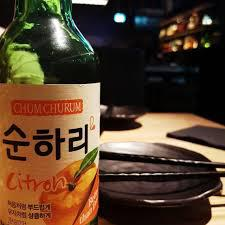soju: (1, 1, 101, 225)
